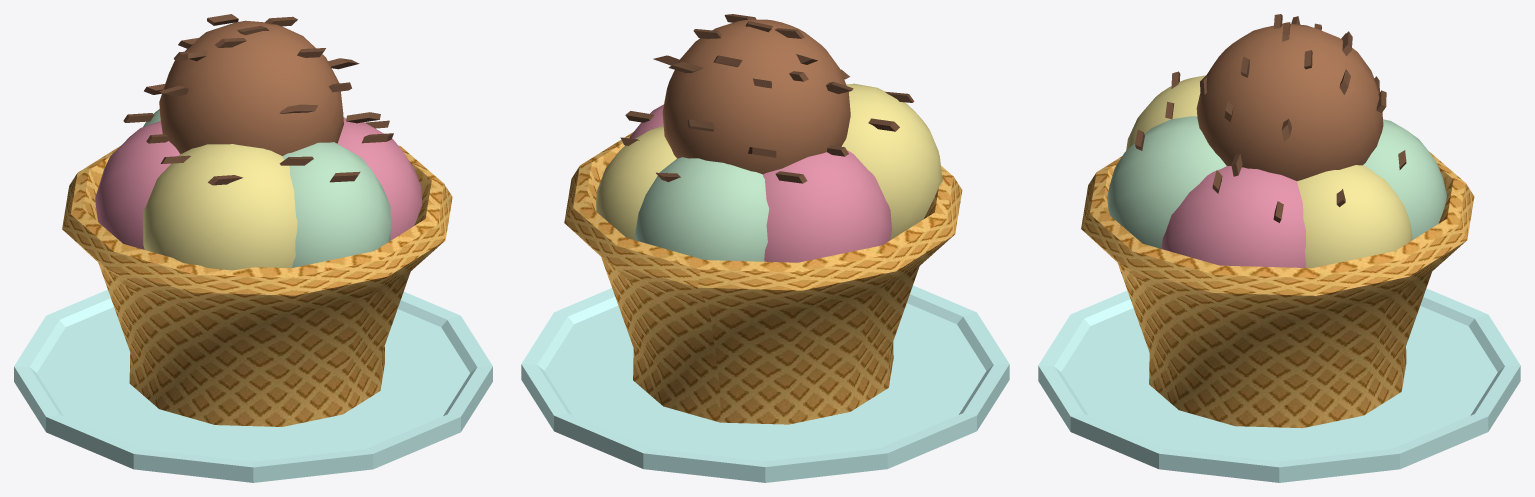
The model's file is Lody.fbx.
The picture shows the model from 3 angles, left to right: view 1: azimuth 30°, elevation 25°; view 2: azimuth 150°, elevation 25°; view 3: azimuth 270°, elevation 25°; orthographic projection.
Visible parts, largest first — view 1: Sphere.003; view 2: Sphere.003; view 3: Sphere.003.
Boxes of the visible parts, x1,y1,x2,y2 form: Sphere.003: (14,14,492,482); Sphere.003: (521,14,1009,482); Sphere.003: (1038,14,1520,482).
Bounding box in the file's own units: 249 × 201 × 249.
